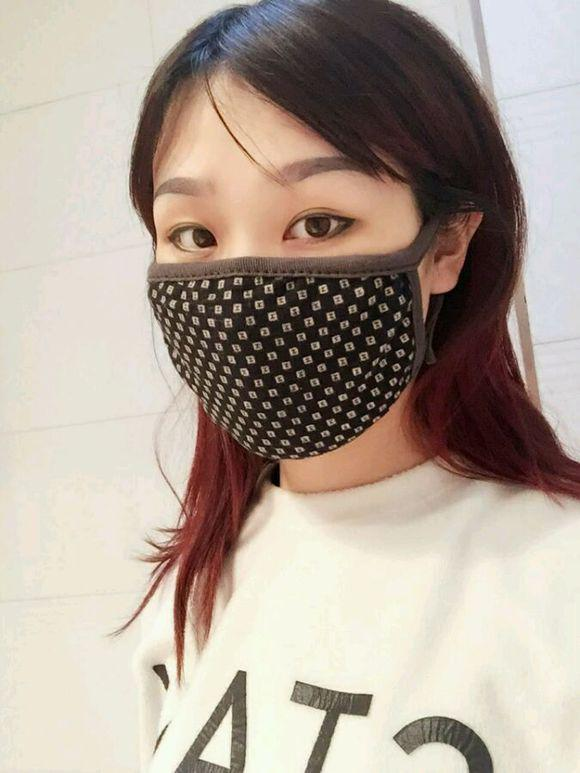OK: (144, 151, 428, 465)
